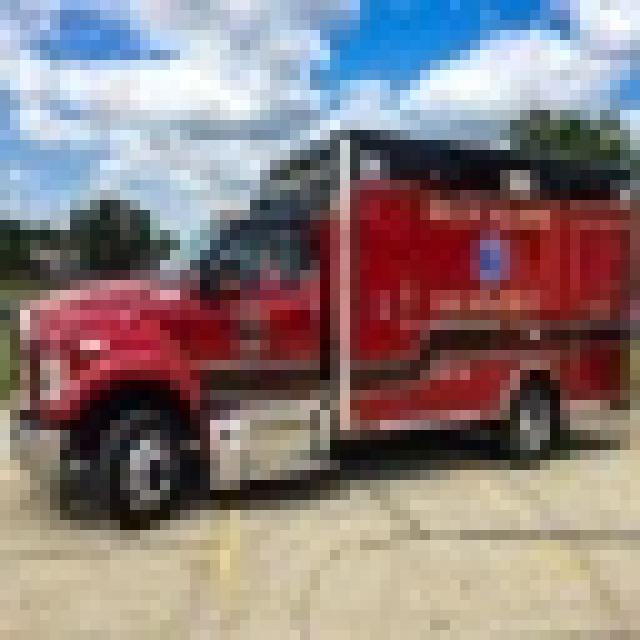Ambulance: (0, 120, 630, 520)
